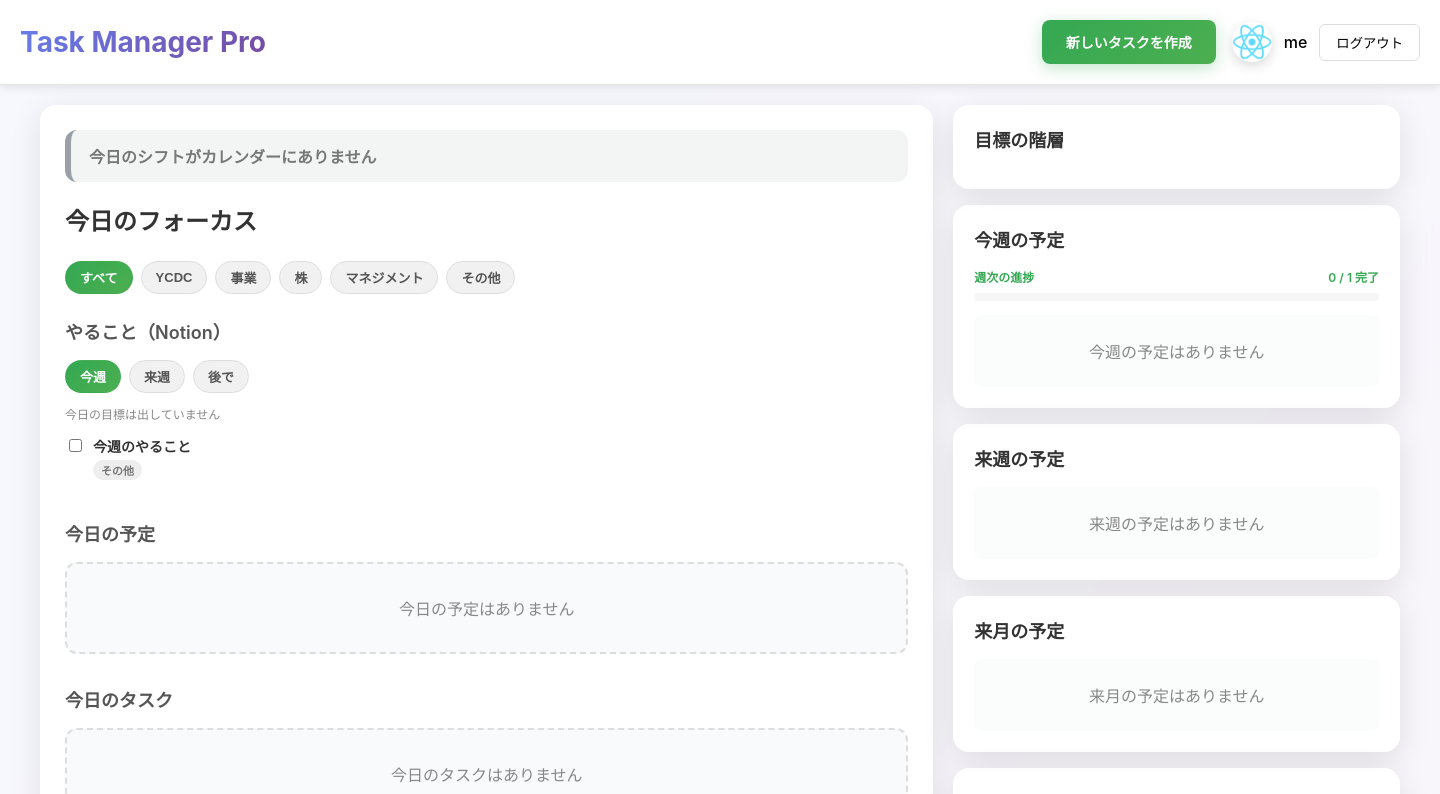
Scenario: when the write fails the checkbox goes back and a short error is shown
This screenshot has width=1440, height=794.
Click the checkbox named "今週のやること" at (76, 446), box 69,439 -> 82,452
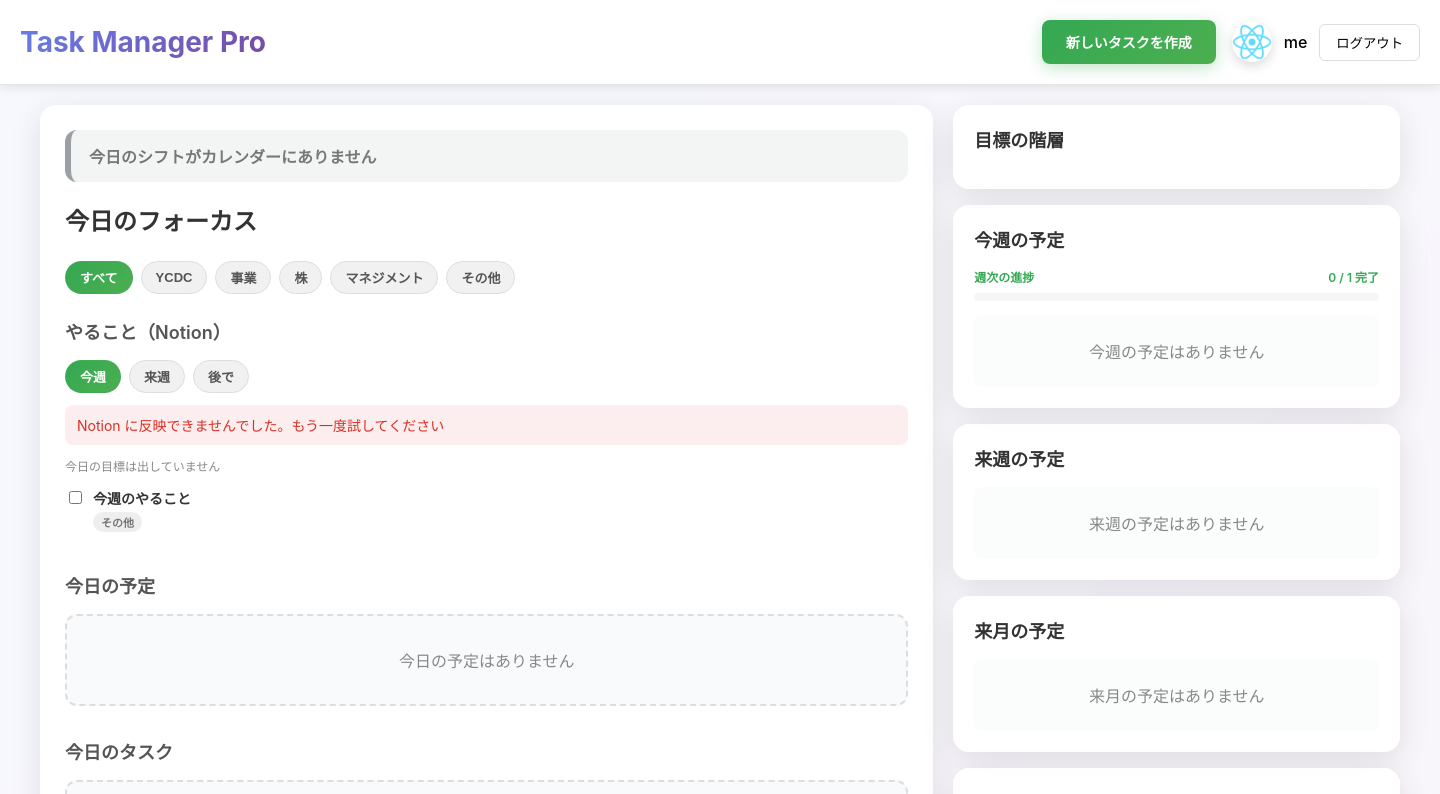
expect the message shows "Notion に反映できませんでした": met, box 77,417 -> 444,434
Click the checkbox named "今週のやること" at (76, 498), box 69,491 -> 82,504
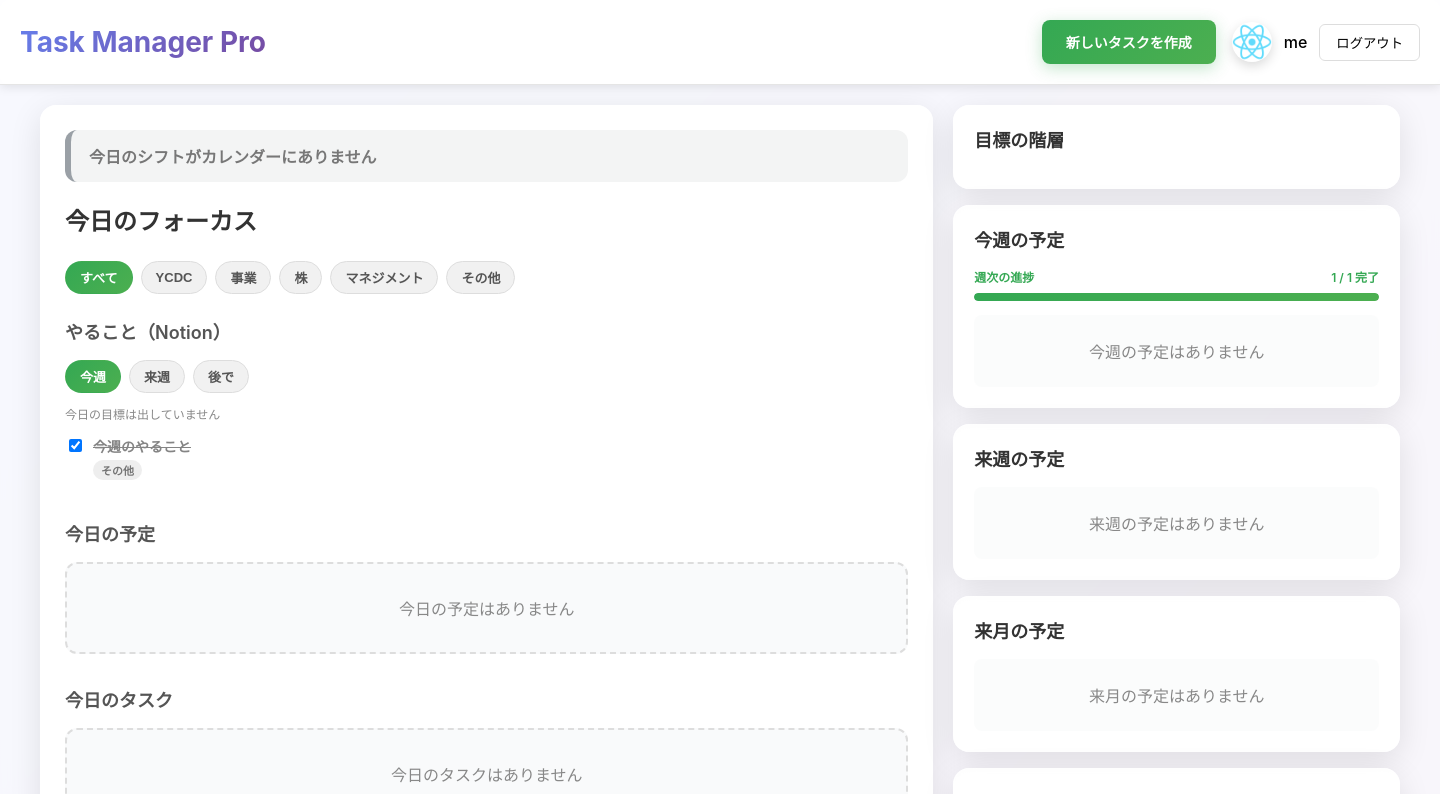
expect the checkbox named "今週のやること" is checked: met, box 69,439 -> 82,452
expect the message "Notion に反映できませんでした。もう一度試してください" is gone: met
